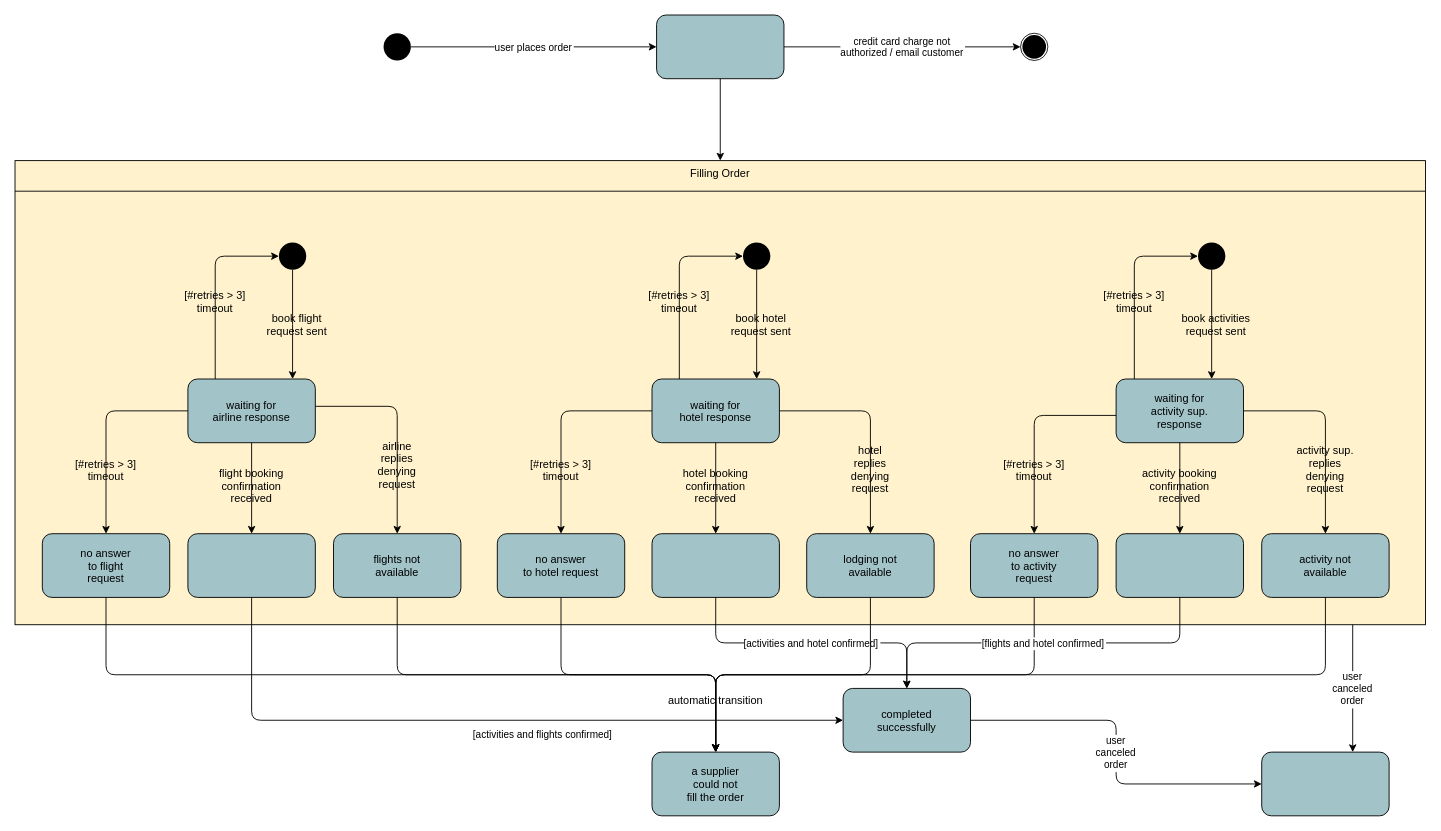
Image size: 1441x831. Some labels were removed from this diagram. Here are the shapes that lost their labels. From the top down, the centre of each, then its label:
At [720,46]: "Created".
At [251,565]: "flights confirmed".
At [715,565]: "hotel room confirmed".
At [1179,565]: "activities booking confirmed".
At [1325,783]: "canceled by user".
